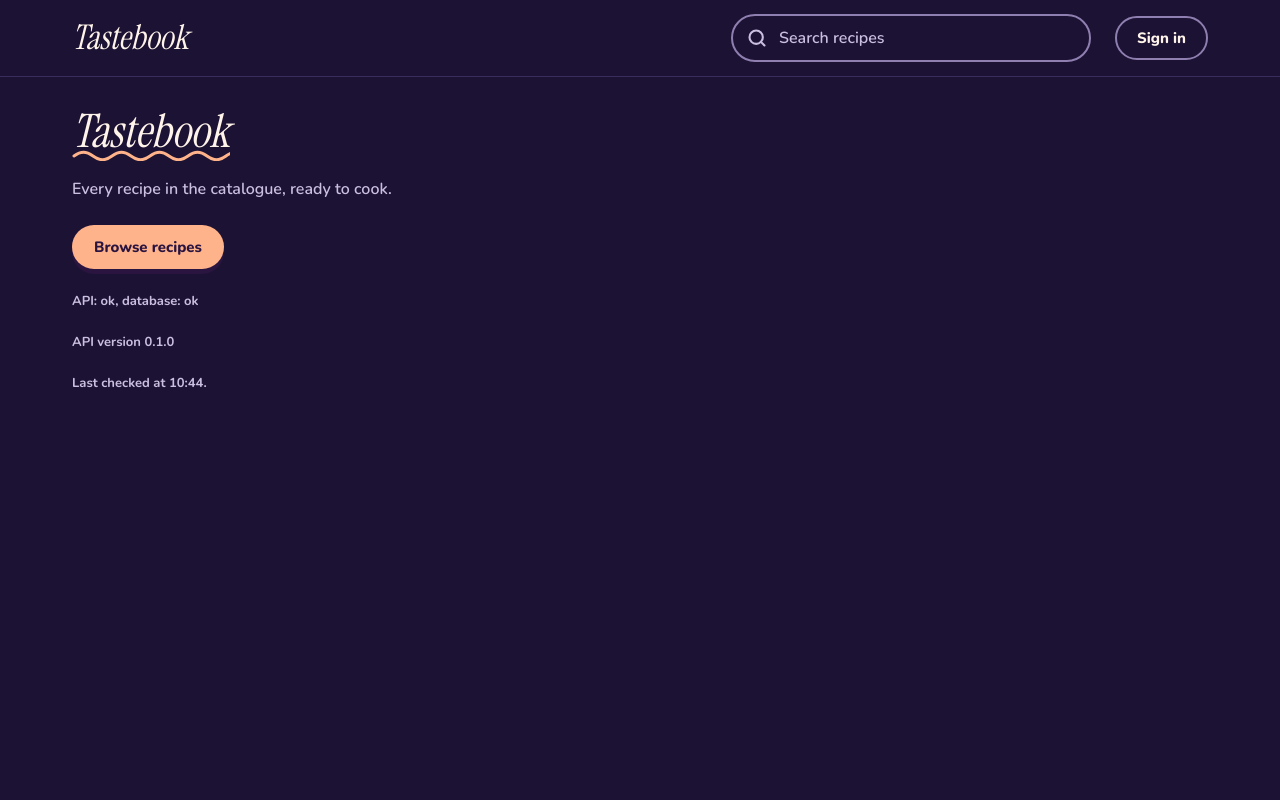
Scenario: HomePage › opens the recipes page from the "Browse recipes" link
The width and height of the screenshot is (1280, 800).
Click the link "Browse recipes".
click(148, 247)  # box [72,225,224,269]
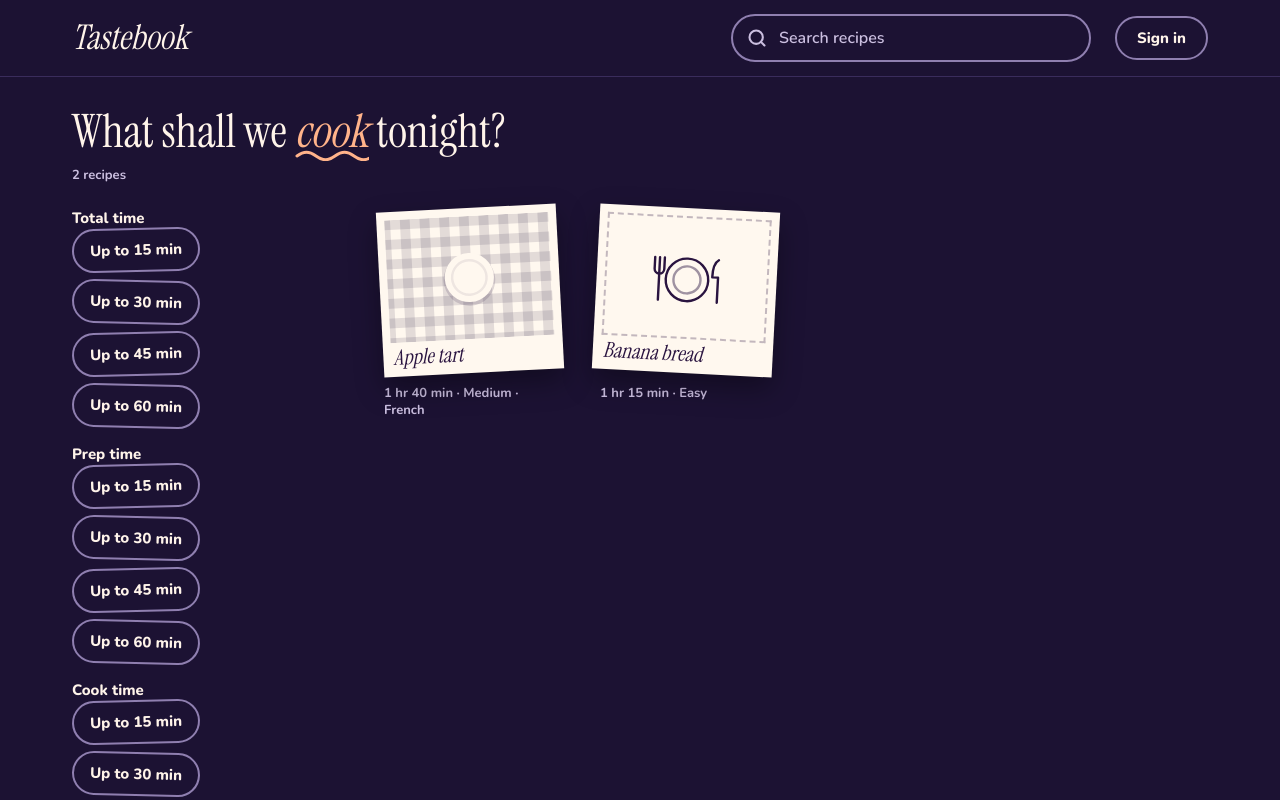
Expected: the heading "What shall we cook tonight?" is shown, [72,101,506,161]
